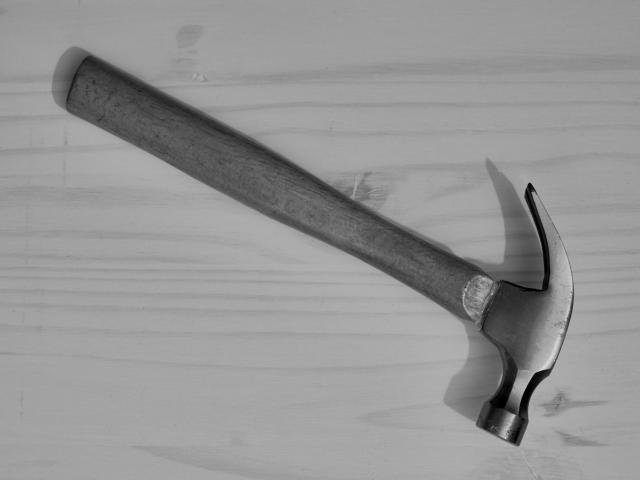Hammer: (66, 57, 574, 446)
